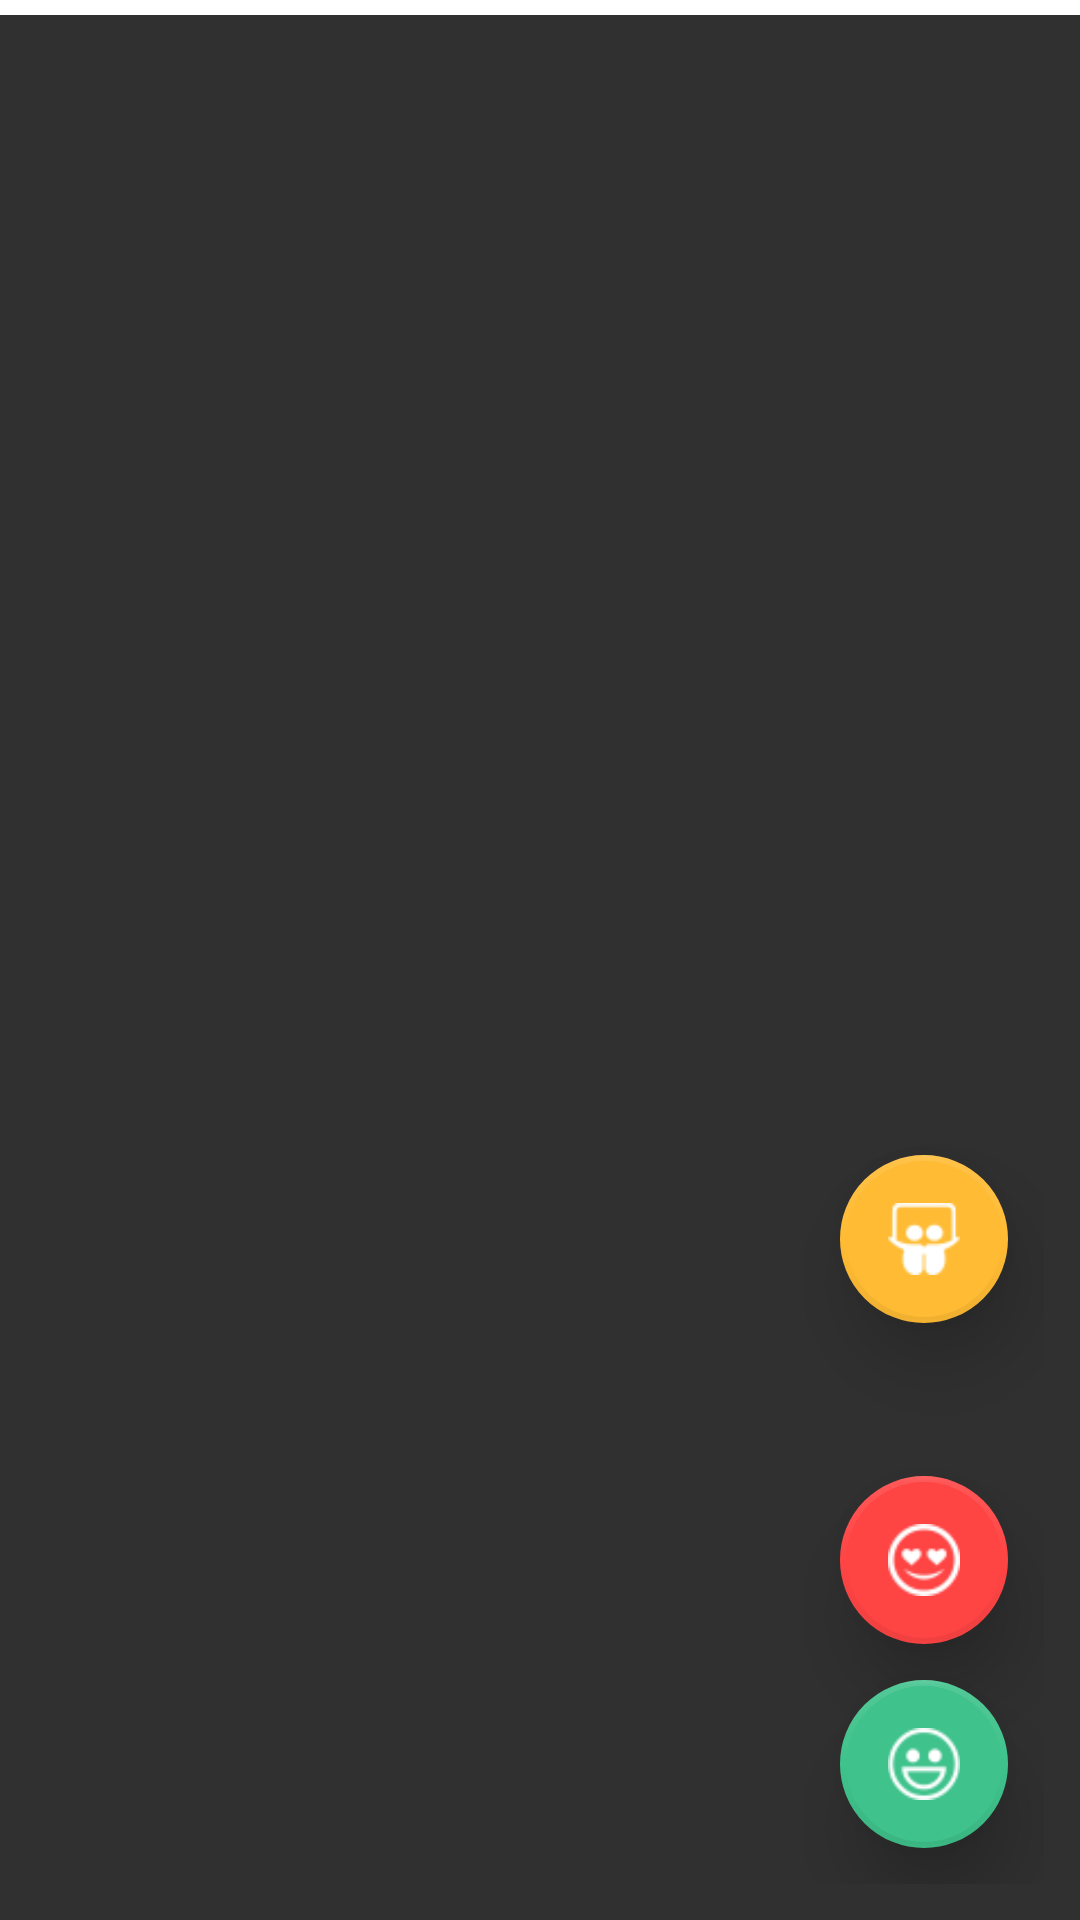

Named icons in this screenshot (1080*1920) and their bounding boxes, (x1, y1, x2, y2):
emoticon: (840, 1680, 1008, 1848)
like: (840, 1476, 1008, 1644)
